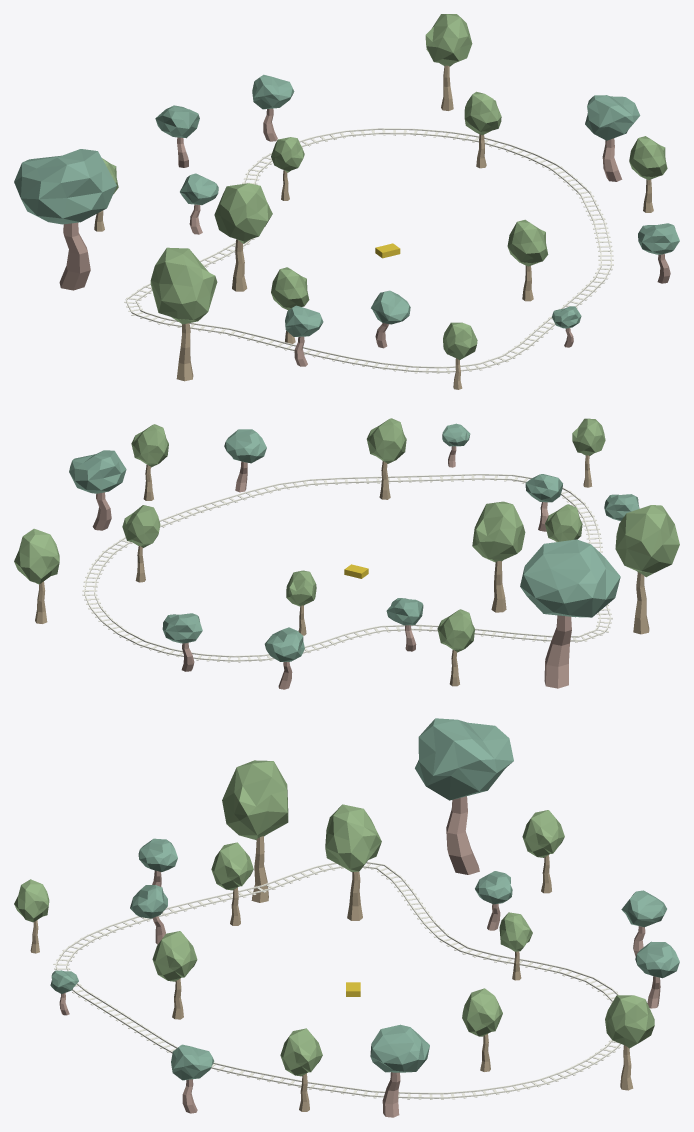
File: world.gltf
The picture shows the model from 3 angles, top to bottom: view 1: azimuth 30°, elevation 25°; view 2: azimuth 150°, elevation 25°; view 3: azimuth 270°, elevation 25°; orthographic projection. The views are drawn at different scales.
Visible parts, largest first — view 1: tree2.002, track, tree1.009, tree1.008, tree2.006, tree1.005, tree1.007, tree1.006, tree1.004, tree2.004, tree2.005, tree2.009 (+7 smaller); view 2: tree2.002, track, tree1.009, tree1.008, tree2.006, tree1.005, tree1.007, tree1.004, tree1.003, tree1.006, tree2.009, tree2.005 (+8 smaller); view 3: tree2.002, track, tree1.009, tree1.008, tree2.006, tree1.005, tree1.007, tree1.003, tree1.006, tree1, tree1.004, tree2.004 (+8 smaller).
Part boxes in pixels (left/top/right/bottom): tree2.002: left=14, top=149, right=116, bottom=290; track: left=124, top=128, right=613, bottom=373; tree1.009: left=150, top=247, right=217, bottom=381; tree1.008: left=214, top=183, right=272, bottom=291; tree2.006: left=585, top=95, right=640, bottom=181; tree1.005: left=425, top=14, right=472, bottom=110; tree1.007: left=507, top=219, right=548, bottom=301; tree1.006: left=629, top=136, right=667, bottom=212; tree1.004: left=464, top=91, right=501, bottom=168; tree2.004: left=252, top=74, right=294, bottom=141; tree2.005: left=155, top=105, right=199, bottom=167; tree2.009: left=638, top=223, right=679, bottom=283; tree2.002: left=520, top=539, right=620, bottom=688; track: left=82, top=474, right=612, bottom=662; tree1.009: left=615, top=505, right=679, bottom=634; tree1.008: left=472, top=501, right=525, bottom=612; tree2.006: left=69, top=450, right=126, bottom=530; tree1.005: left=14, top=528, right=59, bottom=623; tree1.007: left=366, top=418, right=406, bottom=499; tree1.004: left=122, top=505, right=160, bottom=582; tree1.003: left=437, top=609, right=474, bottom=686; tree1.006: left=131, top=424, right=168, bottom=500; tree2.009: left=224, top=429, right=266, bottom=492; tree2.005: left=264, top=627, right=304, bottom=689; tree2.002: left=415, top=718, right=513, bottom=874; track: left=53, top=862, right=620, bottom=1099; tree1.009: left=222, top=760, right=288, bottom=902; tree1.008: left=325, top=804, right=381, bottom=920; tree2.006: left=370, top=1024, right=429, bottom=1117; tree1.005: left=605, top=995, right=654, bottom=1090; tree1.007: left=152, top=931, right=197, bottom=1019; tree1.003: left=522, top=810, right=564, bottom=893; tree1.006: left=280, top=1028, right=322, bottom=1111; tree1: left=211, top=842, right=253, bottom=925; tree1.004: left=462, top=988, right=502, bottom=1071; tree2.004: left=635, top=941, right=679, bottom=1008.
Size of what is drawn, in the model's own units: 33.67 by 8.8 by 32.28.
